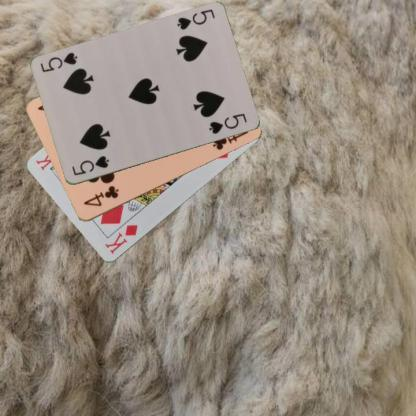4c: (80, 183, 120, 208)
5s: (174, 6, 215, 32), (69, 153, 110, 177)
Kd: (102, 222, 140, 256)
